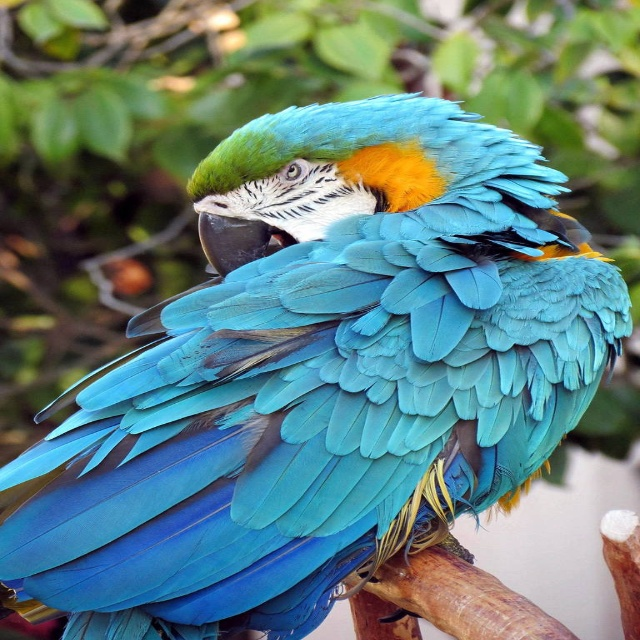Parrot: (0, 88, 635, 640)
